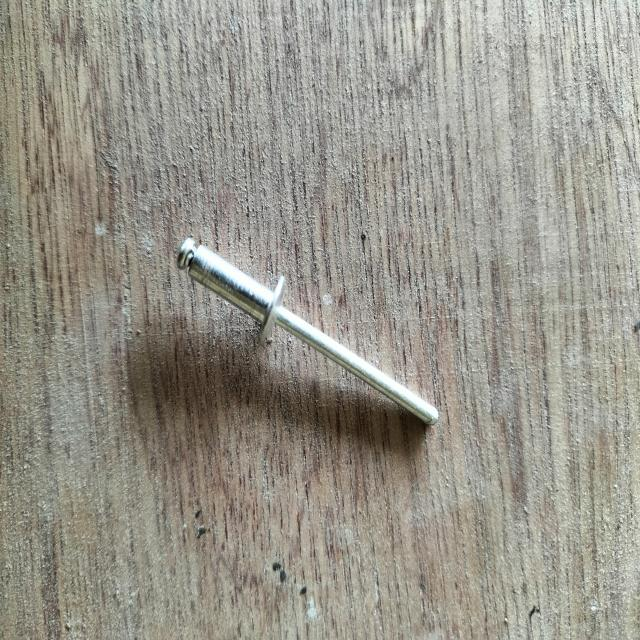rivet: (177, 236, 438, 443)
